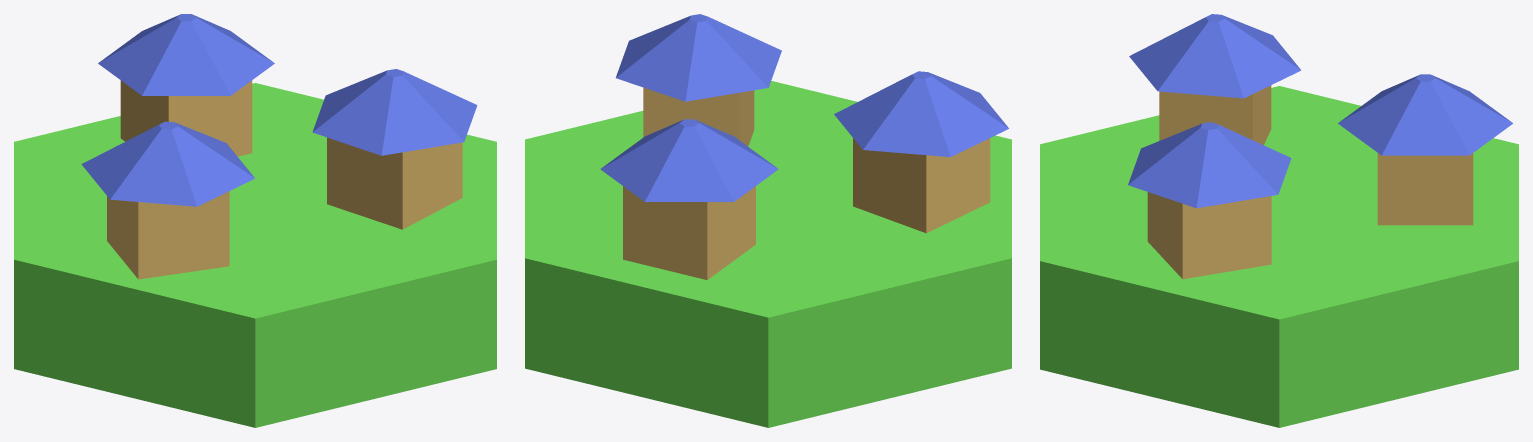
Rendered from village.glb.
3 renders of one model, left to right at view 1: azimuth 30°, elevation 25°; view 2: azimuth 150°, elevation 25°; view 3: azimuth 270°, elevation 25°, orthographic.
Visible parts, largest first — view 1: BaseHex.005; view 2: BaseHex.005; view 3: BaseHex.005.
Boxes of the visible parts, x1,y1,x2,y2 form: BaseHex.005: (14, 14, 496, 427); BaseHex.005: (525, 14, 1011, 427); BaseHex.005: (1040, 14, 1518, 427).
Size of the model in its own units: 1.15 by 0.5427 by 1.
